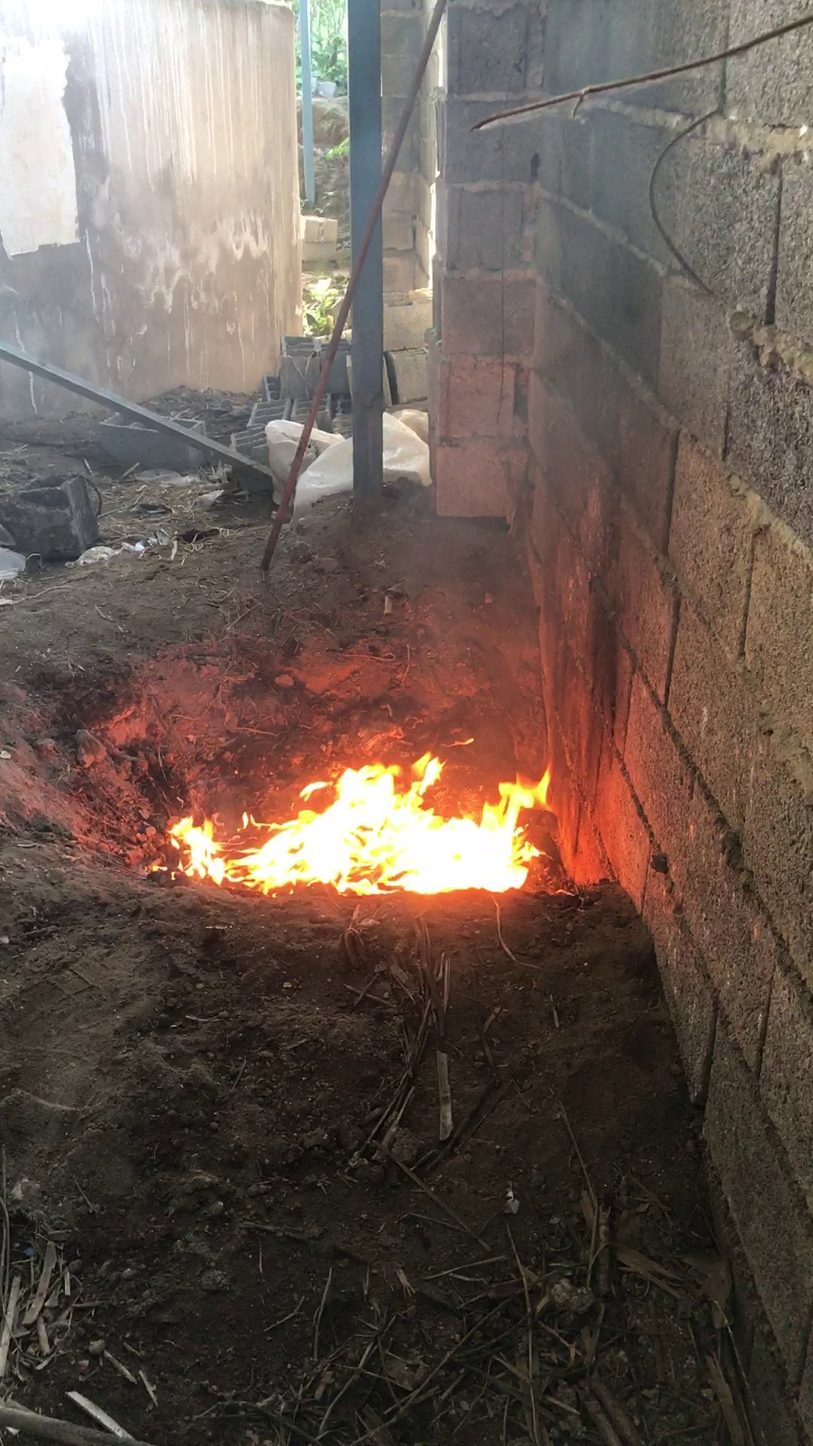fire: (151, 736, 577, 921)
